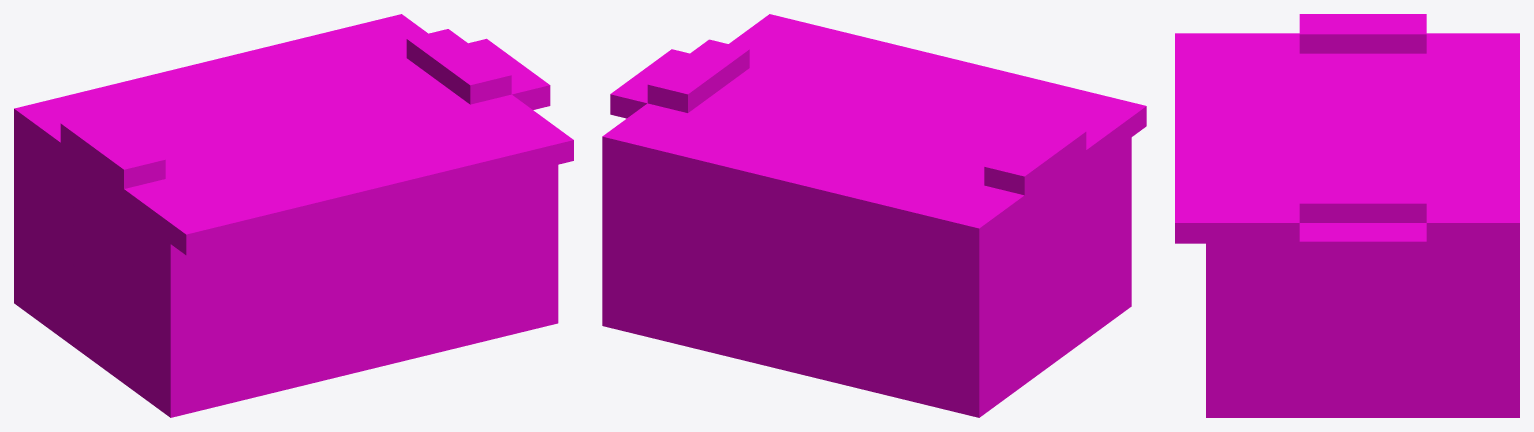
File: plastic_container.glb
3 renders of one model, left to right at view 1: azimuth 30°, elevation 25°; view 2: azimuth 150°, elevation 25°; view 3: azimuth 270°, elevation 25°, orthographic. The views are drawn at different scales.
Parts seen in each view (by area): view 1: col_roof_211, col_roof_322, col_roof_318, col_roof_255, col_roof_266, col_roof_233, col_roof_288, col_roof_299, col_roof_244, col_roof_277, col_roof_222, col_roof_310 (+173 smaller); view 2: col_roof_315, col_roof_201, col_roof_319, col_roof_245, col_roof_212, col_roof_278, col_roof_300, col_roof_256, col_roof_234, col_roof_289, col_roof_223, col_roof_267 (+181 smaller); view 3: col_roof_311, col_roof_319, col_roof_315, col_roof_300, col_roof_322, col_roof_320, col_roof_314, col_roof_310, col_roof_321, col_roof_301, col_roof_309, col_roof_316 (+184 smaller).
Part boxes in pixels (x1,y1,x2,y2): col_roof_211: [169, 213, 227, 255]; col_roof_322: [453, 63, 511, 104]; col_roof_318: [107, 147, 165, 188]; col_roof_255: [325, 175, 381, 217]; col_roof_266: [363, 165, 419, 208]; col_roof_233: [247, 194, 304, 235]; col_roof_288: [441, 146, 496, 189]; col_roof_299: [482, 138, 535, 179]; col_roof_244: [286, 184, 342, 226]; col_roof_277: [405, 157, 458, 198]; col_roof_222: [210, 203, 266, 245]; col_roof_310: [519, 128, 573, 170]; col_roof_315: [984, 155, 1040, 195]; col_roof_201: [939, 208, 995, 247]; col_roof_319: [647, 73, 702, 112]; col_roof_245: [789, 170, 844, 210]; col_roof_212: [901, 198, 956, 238]; col_roof_278: [677, 143, 730, 183]; col_roof_300: [602, 125, 655, 166]; col_roof_256: [752, 161, 807, 202]; col_roof_234: [826, 179, 882, 219]; col_roof_289: [639, 134, 694, 173]; col_roof_223: [864, 189, 920, 229]; col_roof_267: [714, 152, 766, 193]; col_roof_311: [1393, 223, 1426, 262]; col_roof_319: [1393, 183, 1426, 222]; col_roof_315: [1393, 14, 1426, 53]; col_roof_300: [1486, 202, 1519, 243]; col_roof_322: [1299, 183, 1333, 222]; col_roof_320: [1361, 183, 1395, 222]; col_roof_314: [1299, 223, 1333, 262]; col_roof_310: [1175, 202, 1208, 243]; col_roof_321: [1330, 183, 1364, 222]; col_roof_301: [1455, 202, 1488, 243]; col_roof_309: [1206, 202, 1239, 243]; col_roof_316: [1361, 14, 1395, 53].
Bounding box in the file's own units: 0.9917 × 0.4761 × 0.694.
